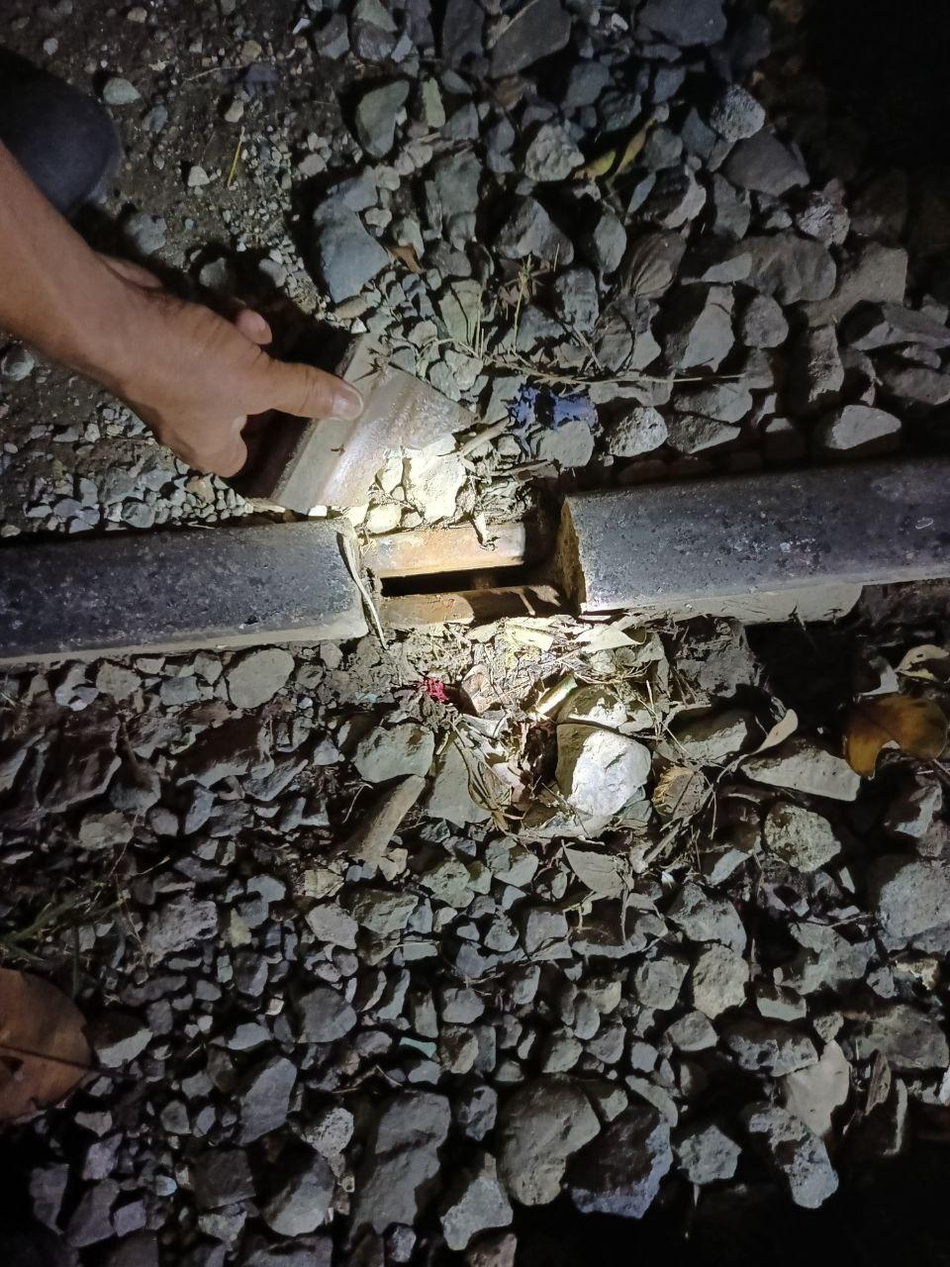railway-gap: (275, 489, 656, 647)
